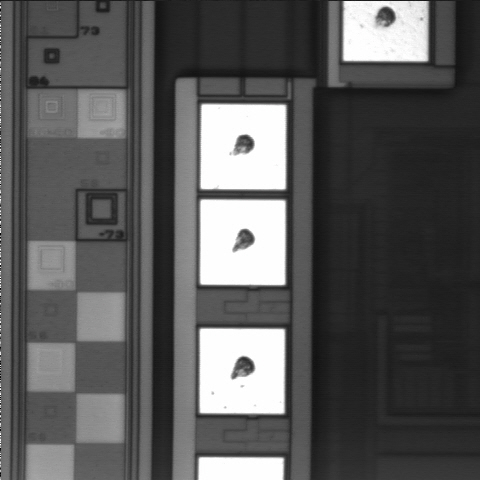pad: (201, 104, 286, 189), (200, 200, 285, 285), (200, 329, 285, 414)
